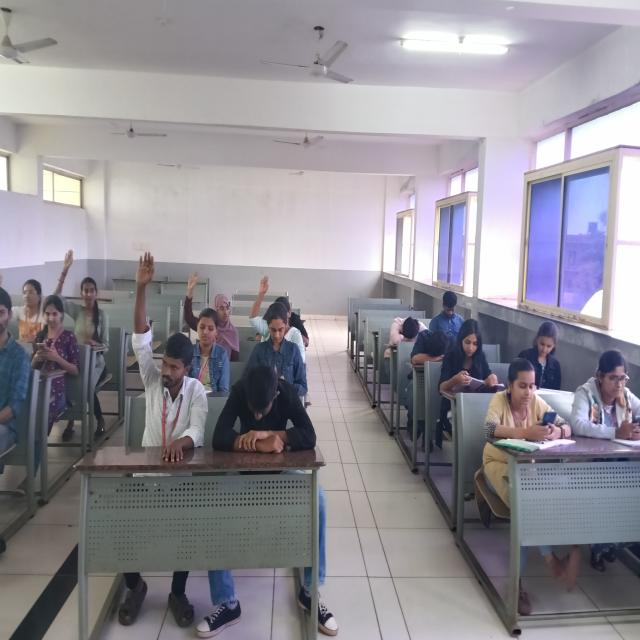Hand Rising: (123, 247, 210, 444), (42, 200, 117, 348), (229, 252, 309, 368), (181, 250, 243, 358)
Reading: (438, 299, 516, 403)
Sleeping: (203, 336, 324, 470), (396, 297, 462, 386), (370, 273, 430, 358)
Using Phone: (561, 340, 640, 489), (488, 348, 574, 457), (31, 282, 88, 398)
